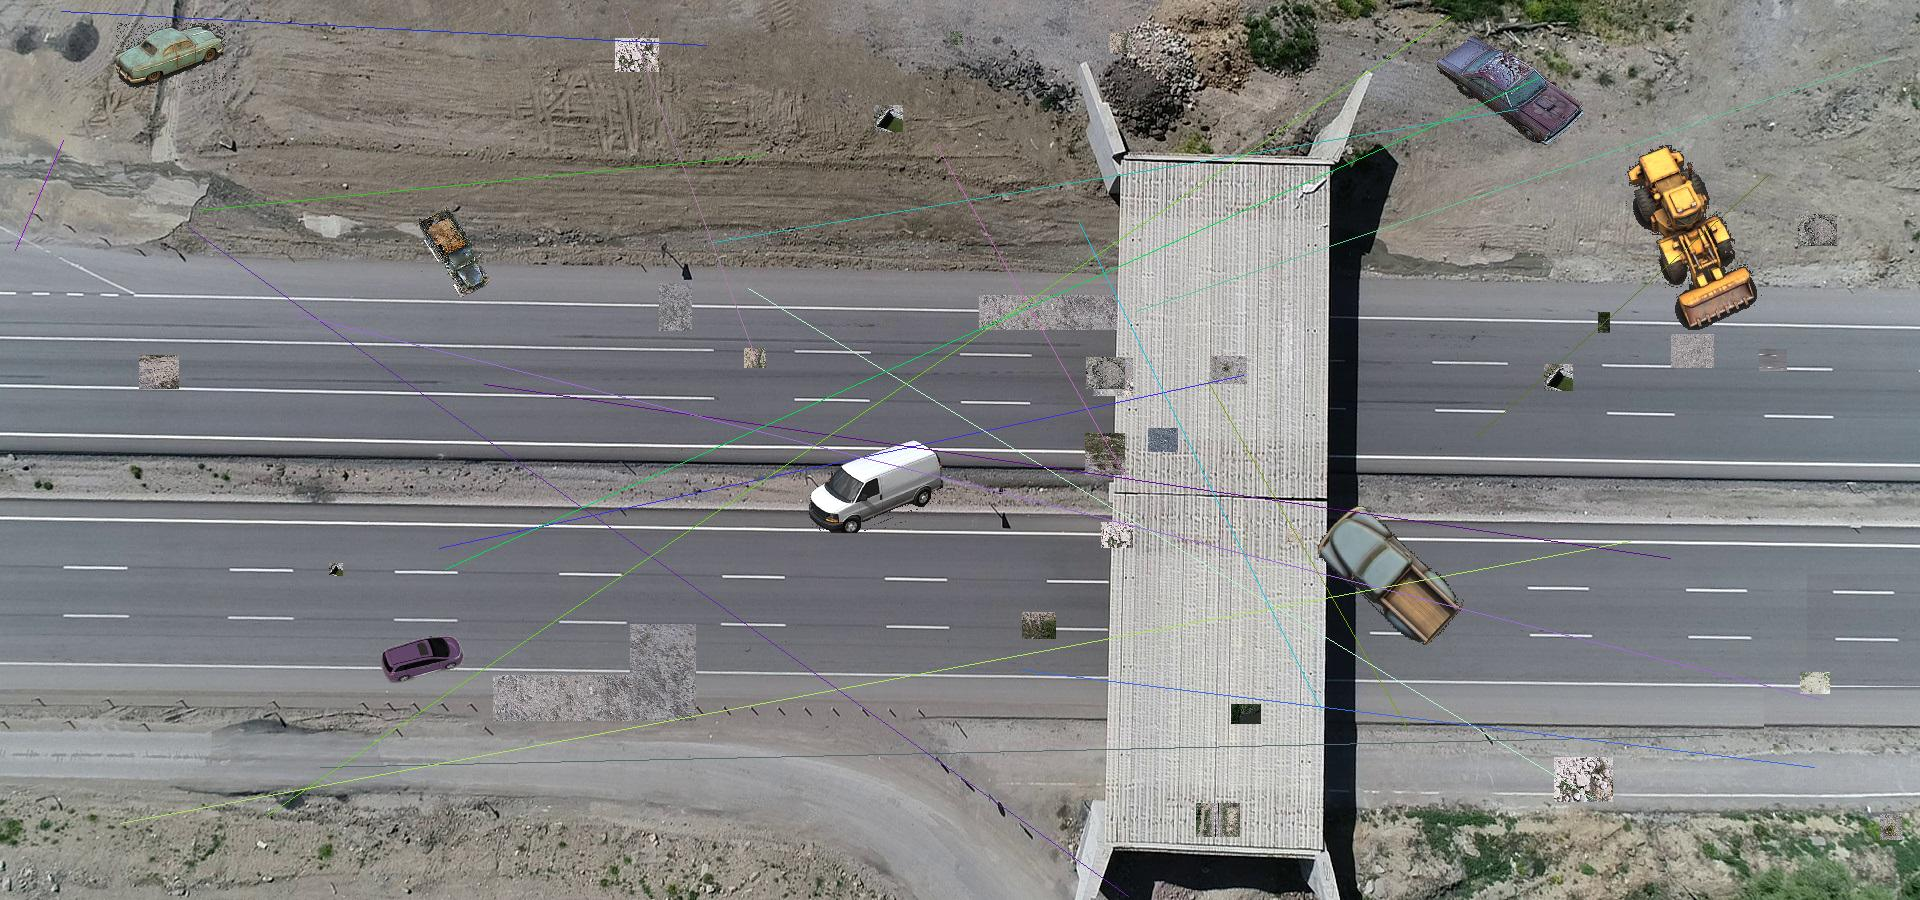arac: (1611, 144, 1769, 331), (1314, 503, 1464, 645), (1430, 31, 1586, 144), (809, 440, 943, 533), (116, 23, 227, 91), (418, 206, 489, 298), (378, 636, 467, 683)
